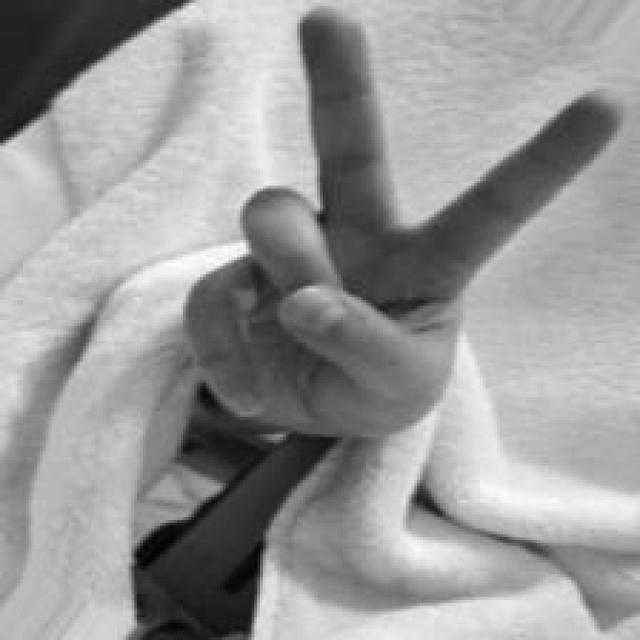V: (184, 10, 626, 441)
